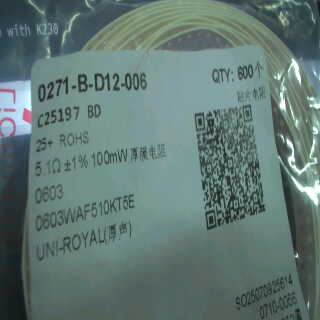5.1R: (30, 157, 64, 179)
